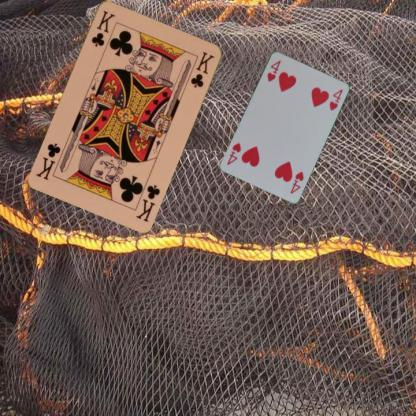4h: (287, 168, 305, 194), (265, 57, 282, 83)
Kc: (134, 181, 161, 223), (89, 7, 116, 48)
